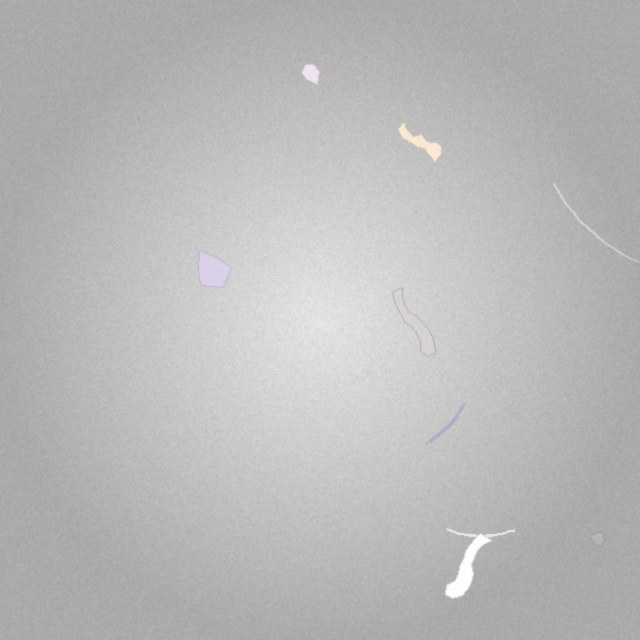fiber: (551, 181, 639, 269), (422, 400, 469, 447), (444, 527, 518, 539)
film: (393, 287, 435, 357), (446, 534, 491, 598), (397, 121, 441, 162)
fragment: (198, 250, 232, 287), (302, 64, 320, 84), (590, 532, 605, 546)
